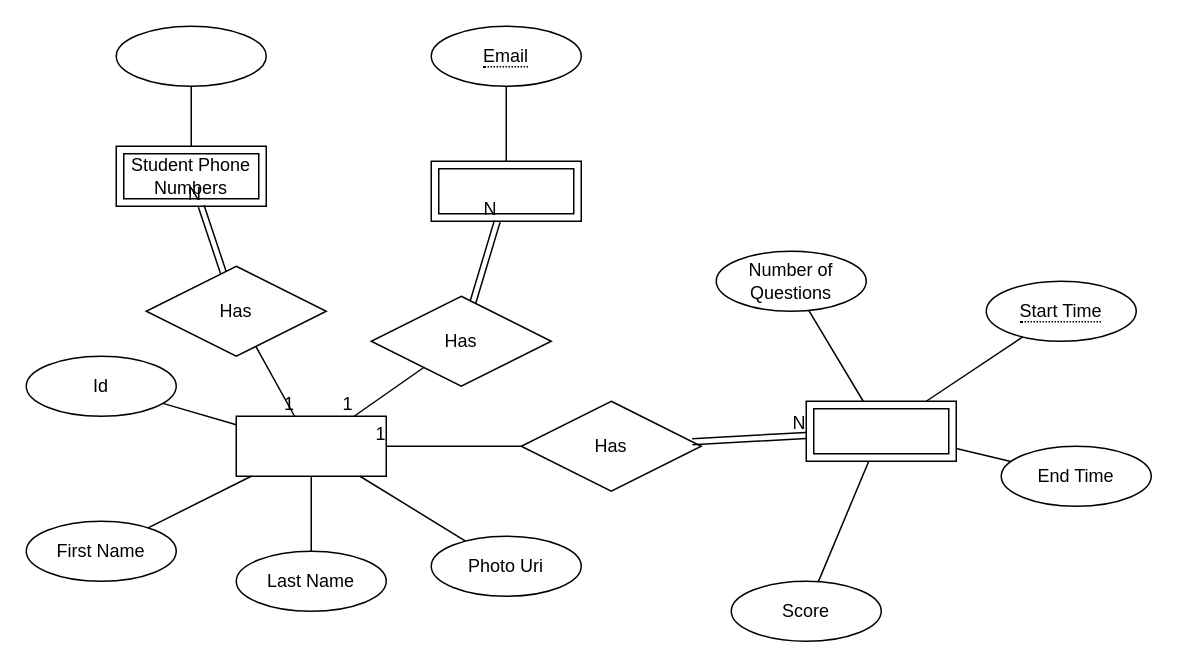
Image size: 1178x668. Some labels were removed from this diagram. The centre of each missing label's shape, as x and y in pixels:
"Phone" belongs at point 190,55.
"Student Emails" belongs at point 505,190.
"Students" belongs at point 310,445.
"Test Results" belongs at point 880,430.
